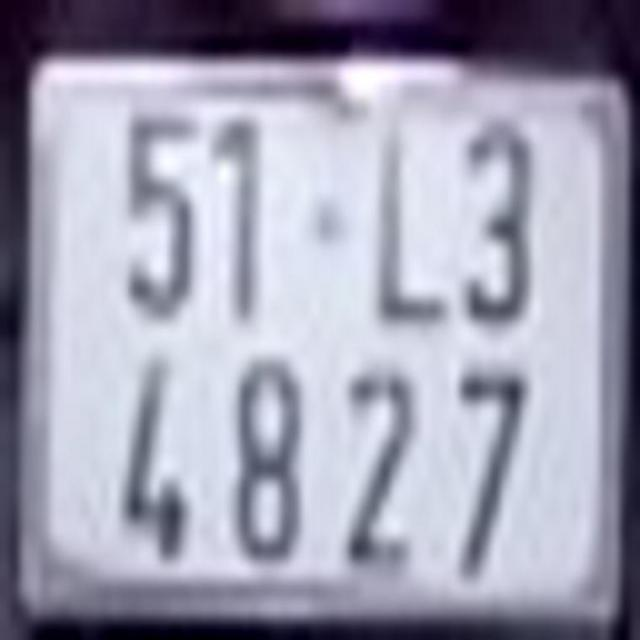1: (208, 105, 256, 306)
2: (348, 367, 414, 560)
3: (464, 110, 529, 324)
4: (122, 357, 196, 556)
5: (129, 108, 197, 310)
7: (459, 368, 527, 584)
8: (237, 355, 299, 560)
L: (374, 114, 446, 311)
